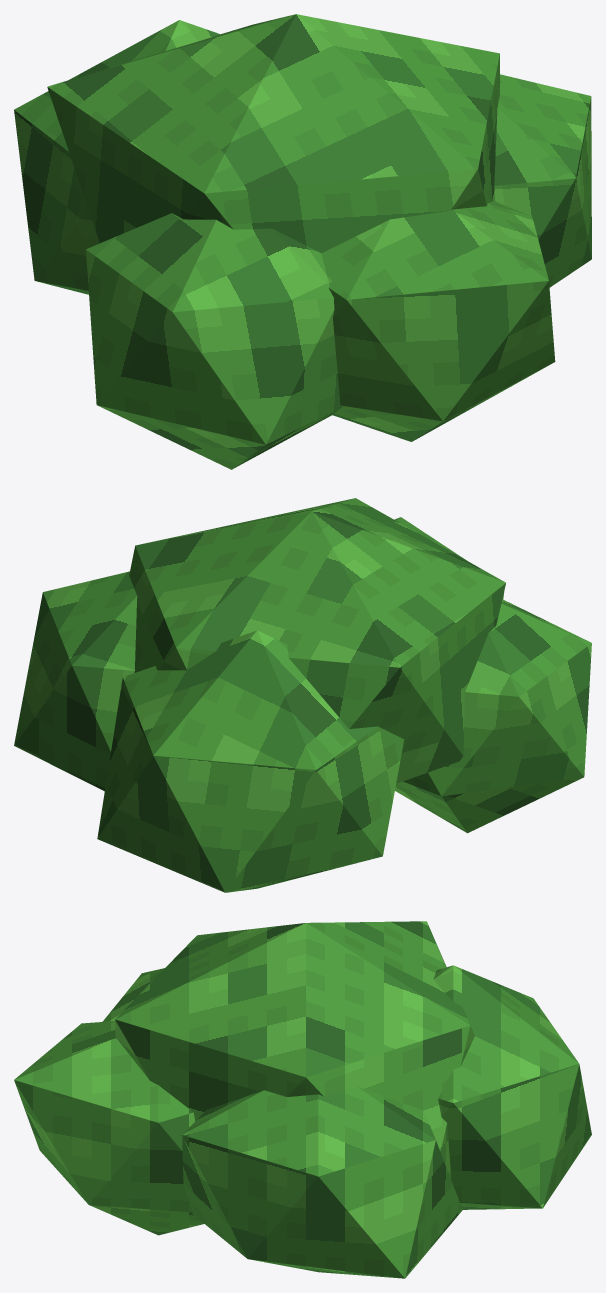
The model's file is bush0.glb.
The picture shows the model from 3 angles, top to bottom: view 1: azimuth 30°, elevation 25°; view 2: azimuth 150°, elevation 25°; view 3: azimuth 270°, elevation 25°; orthographic projection. The views are drawn at different scales.
Visible parts, largest first — view 1: bush0; view 2: bush0; view 3: bush0.
Part boxes in pixels (x1,y1,x2,y2): bush0: (14, 14, 591, 469); bush0: (14, 498, 591, 892); bush0: (14, 921, 591, 1278).
Bounding box in the file's own units: 1.7 × 1.12 × 1.86.
1 material, 1 textured.
